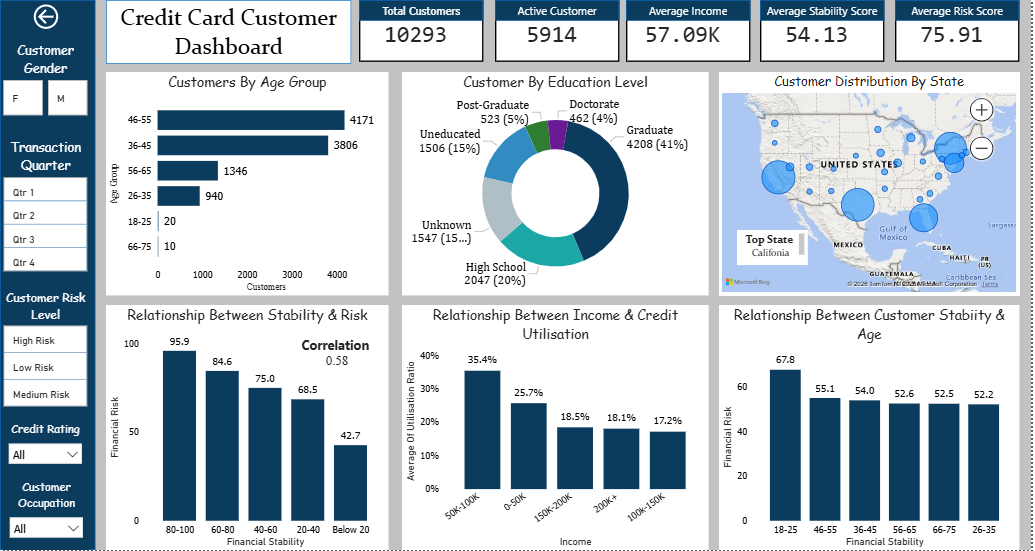

What the dashboard file says about the page in this screenshot:
{"tool":"powerbi","page":{"name":"Customer Dashboard","canvas":[1500,800],"ordinal":0},"visuals":[{"type":"shape","box":[0,0,138.7,800],"z":0},{"type":"shape","box":[224.2,95.2,421,24.2],"z":1000},{"type":"clusteredColumnChart","title":"Financial Stability vs Risk","fields":{"Category":["Financial_Stability.Stability_bins"],"Y":["Avg(Financial_Risk.Risk_Score)"]},"box":[138.7,459.7,450,340.3],"z":2000},{"type":"lineStackedColumnComboChart","title":"Income vs Utilization","fields":{"Category":["customer.Income_band"],"Y":["Avg(CreditCard.Avg_Utilization_Ratio)"]},"box":[139.2,120,486.4,320],"z":3000},{"type":"shape","box":[982.3,95.2,421,24.2],"z":4000},{"type":"clusteredBarChart","title":"Customers By Age Group","fields":{"Category":["customer.Age_Grp"],"Y":["CreditCard.Total_customers"]},"box":[600,440.3,438.7,359.7],"z":5000},{"type":"shapeMap","title":"Geographic Concentration Of Customers","fields":{"Category":["50 States.State"],"Value":["CreditCard.Total_customers"]},"box":[645.2,127.4,472.6,312.9],"z":6000},{"type":"donutChart","title":"Customer By Education Level","fields":{"Category":["customer.Education_Level"],"Y":["CreditCard.Total_customers"]},"box":[1024,440,476.8,360],"z":7000},{"type":"textbox","box":[1117.7,127.4,382.3,312.9],"z":8000},{"type":"advancedSlicerVisual","title":"Gender","fields":{"Values":["customer.Gender"]},"box":[0,95.2,138.7,135.5],"z":9000},{"type":"advancedSlicerVisual","title":"Gender","fields":{"Values":["Financial_Risk.Risk Category"]},"box":[0,245.2,138.7,171],"z":10000},{"type":"slicer","title":"⭐⭐⭐⭐⭐","fields":{"Values":["customer.Cust_Satisfaction_Score"]},"box":[6.5,656.5,125.8,67.7],"z":11000},{"type":"slicer","title":"Occupation","fields":{"Values":["customer.Customer_Job"]},"box":[6.5,741.9,125.8,58.1],"z":12000},{"type":"card","title":"Top State","fields":{"Values":["Min(customer.State)"]},"box":[922.6,390.3,87.1,50],"z":13000},{"type":"cardVisual","title":"Total Customers","fields":{"Data":["CreditCard.Total_customers"]},"box":[138.7,0,230.6,85.5],"z":14000},{"type":"cardVisual","title":"Total Customers","fields":{"Data":["CreditCard.Active_customers"]},"box":[395.2,0,230.6,85.5],"z":15000},{"type":"cardVisual","title":"Total Customers","fields":{"Data":["Avg(customer.Income)"]},"box":[651.6,0,230.6,85.5],"z":16000},{"type":"cardVisual","title":"Total Customers","fields":{"Data":["Avg(Financial_Stability.Financial_Stability_Score)"]},"box":[908.1,0,230.6,85.5],"z":17000},{"type":"cardVisual","title":"Total Customers","fields":{"Data":["Avg(Financial_Risk.Risk_Score)"]},"box":[1172.6,0,230.6,85.5],"z":18000},{"type":"image","box":[529,0,96.8,85.5],"z":19000},{"type":"image","box":[258.1,0,124.2,85.5],"z":20000},{"type":"image","box":[782.3,0,100,85.5],"z":21000},{"type":"image","box":[1308.8,6.4,92.8,72],"z":22000},{"type":"image","box":[1045.2,0,93.5,85.5],"z":23000},{"type":"shape","box":[138.7,0,143.5,30],"z":24000},{"type":"shape","box":[395.2,0,137.1,30],"z":25000},{"type":"shape","box":[651.6,0,137.1,30],"z":26000},{"type":"shape","box":[908.1,0,137.1,30],"z":27000},{"type":"shape","box":[1172.6,0,137.1,30],"z":28000},{"type":"slicer","title":"Use Chip","fields":{"Values":["CreditCard.Week_Start_Date.Variation.Date Hierarchy.Quarter"]},"box":[6.5,572.6,125.8,58.1],"z":29000},{"type":"image","box":[0,416.1,138.7,154.8],"z":30000},{"type":"image","box":[69.4,119.4,51.6,54.8],"z":31000},{"type":"image","box":[75.2,174.4,33.6,56],"z":32000}]}

Visuals, with their boxes in screenshot pixels (x1, y1, x2, y2), scaled from the page's 1500x800 canvas onto the 1035x551 screenshot:
shape: 0/0/96/550
shape: 155/66/445/82
"Financial Stability vs Risk" clusteredColumnChart: 96/317/406/550
"Income vs Utilization" lineStackedColumnComboChart: 96/83/432/303
shape: 678/66/968/82
"Customers By Age Group" clusteredBarChart: 414/303/717/550
"Geographic Concentration Of Customers" shapeMap: 445/88/771/303
"Customer By Education Level" donutChart: 707/303/1034/550
textbox: 771/88/1034/303
"Gender" advancedSlicerVisual: 0/66/96/159
"Gender" advancedSlicerVisual: 0/169/96/287
"⭐⭐⭐⭐⭐" slicer: 4/452/91/499
"Occupation" slicer: 4/511/91/550
"Top State" card: 637/269/697/303
"Total Customers" cardVisual: 96/0/255/59
"Total Customers" cardVisual: 273/0/432/59
"Total Customers" cardVisual: 450/0/609/59
"Total Customers" cardVisual: 627/0/786/59
"Total Customers" cardVisual: 809/0/968/59
image: 365/0/432/59
image: 178/0/264/59
image: 540/0/609/59
image: 903/4/967/54
image: 721/0/786/59
shape: 96/0/195/21
shape: 273/0/367/21
shape: 450/0/544/21
shape: 627/0/721/21
shape: 809/0/904/21
"Use Chip" slicer: 4/394/91/434
image: 0/287/96/393
image: 48/82/83/120
image: 52/120/75/159
